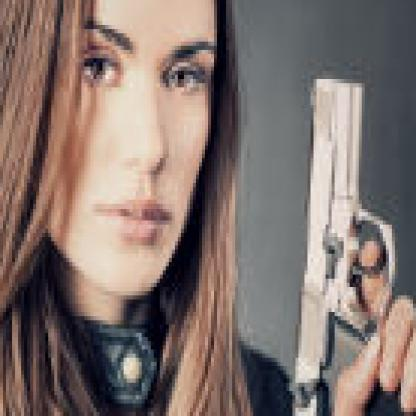gun: (280, 58, 413, 412)
